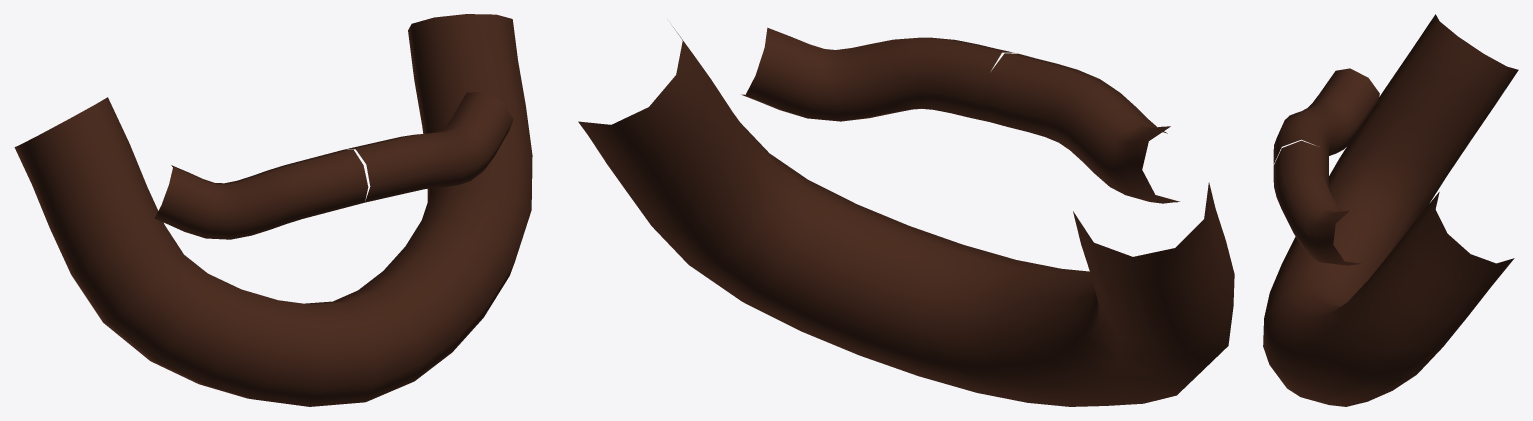
The model's file is captain_trimmed.glb.
The picture shows the model from 3 angles, left to right: view 1: azimuth 30°, elevation 25°; view 2: azimuth 150°, elevation 25°; view 3: azimuth 270°, elevation 25°; orthographic projection. The views are drawn at different scales.
Parts seen in each view (by area): view 1: jaw_strap, mustache_-1, mustache_1; view 2: jaw_strap, mustache_1, mustache_-1; view 3: jaw_strap, mustache_1, mustache_-1.
Boxes of the visible parts, x1=… form: jaw_strap: x1=14, y1=14, x2=532, y2=406; mustache_-1: x1=154, y1=149, x2=368, y2=239; mustache_1: x1=345, y1=91, x2=513, y2=202; jaw_strap: x1=578, y1=26, x2=1234, y2=406; mustache_1: x1=741, y1=27, x2=1013, y2=121; mustache_-1: x1=983, y1=53, x2=1179, y2=203; jaw_strap: x1=1263, y1=14, x2=1518, y2=406; mustache_1: x1=1273, y1=140, x2=1362, y2=265; mustache_-1: x1=1273, y1=68, x2=1379, y2=164.
Size of the model in its own units: 0.2109 by 0.1199 by 0.1018.
